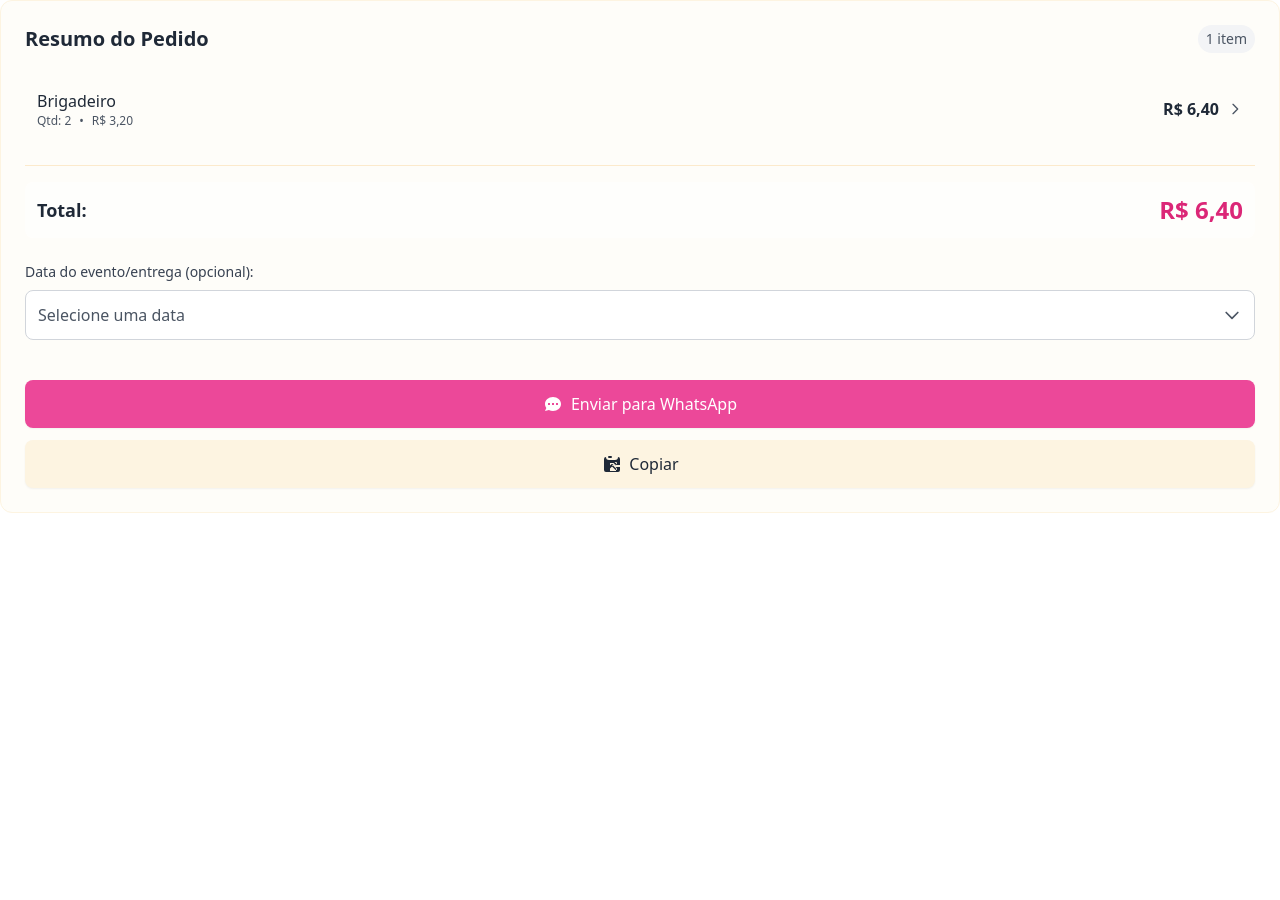
Test case: QuoteSummary › formats date correctly without timezone issues
This screenshot has width=1280, height=900.
Find the custom date picker input
Step 1. Click the text "Selecione uma data" → click(112, 315), box x1=38 y1=303 x2=185 y2=327
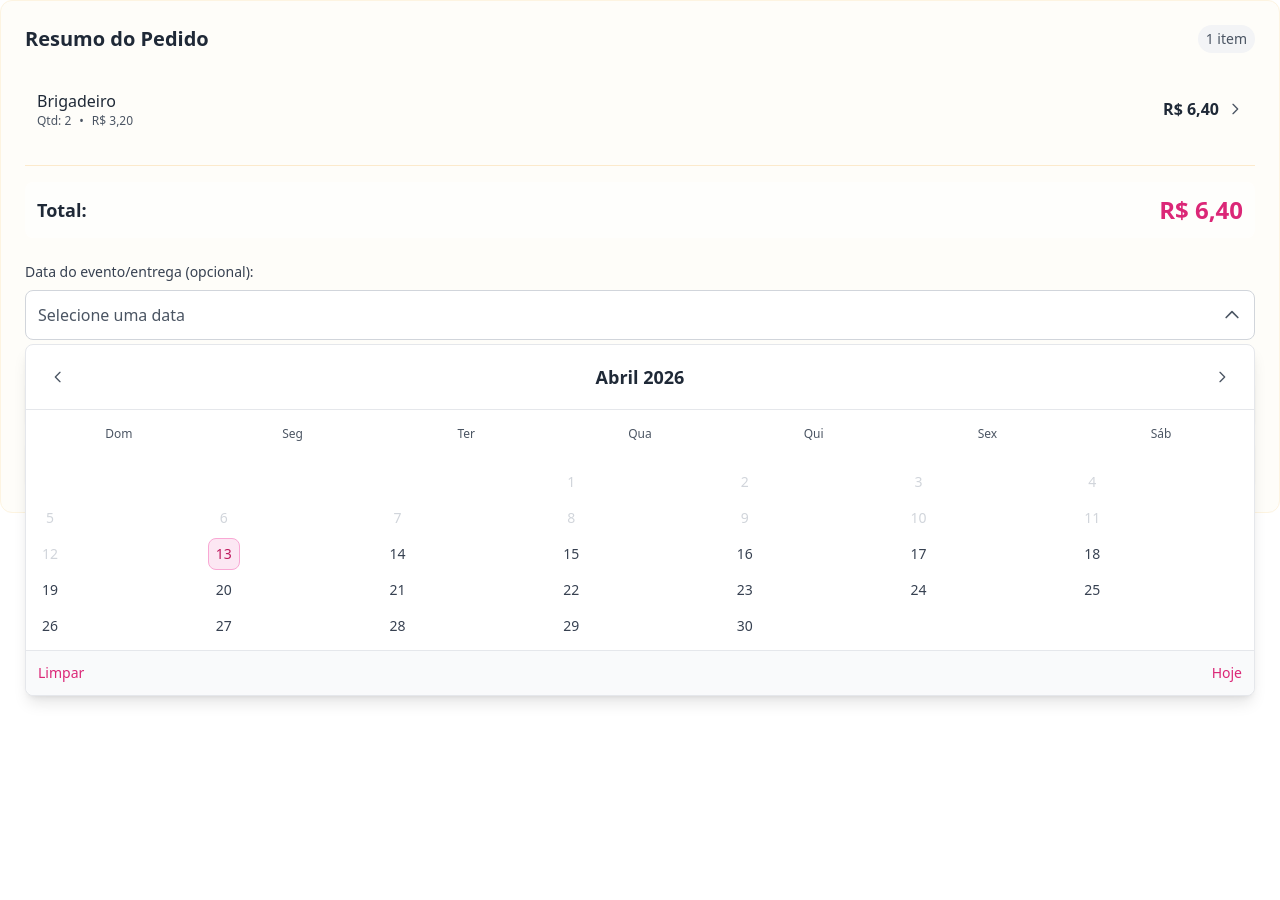
Step 2. Click the button "13" → click(224, 554), box x1=208 y1=538 x2=240 y2=570
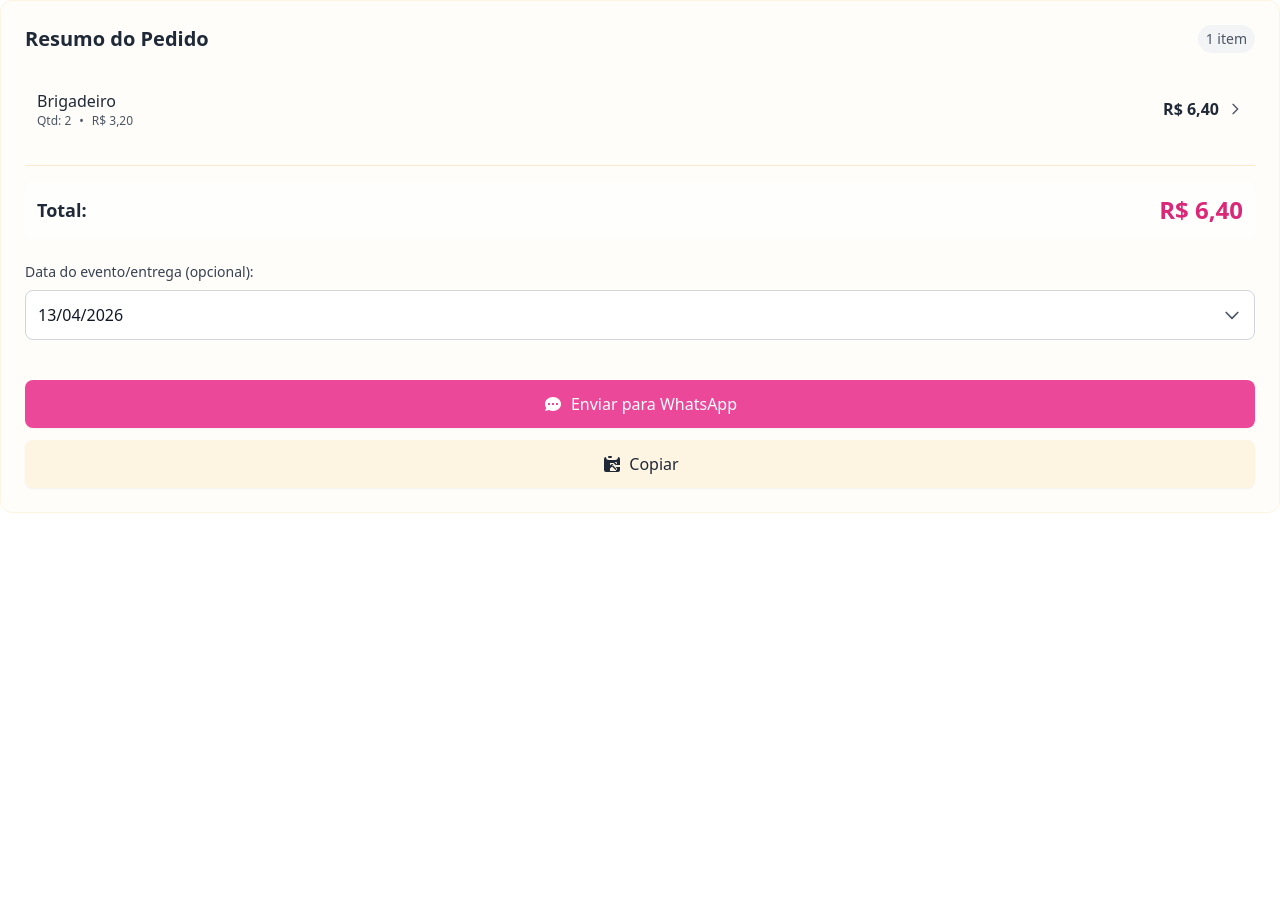
Expected: the text "13/04/2026" is shown, x1=38 y1=303 x2=123 y2=327
